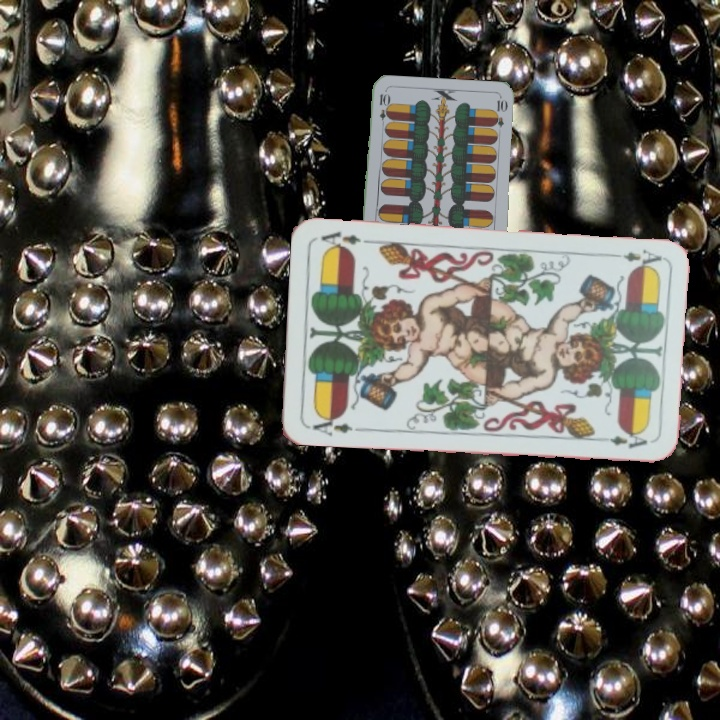E10: (375, 90, 390, 130)
EA: (305, 410, 365, 438), (619, 245, 664, 270)
